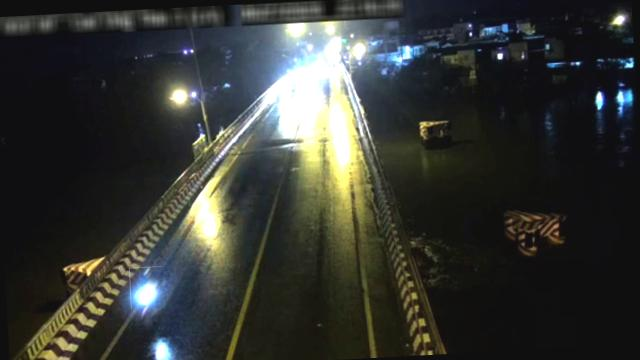Bike: (129, 266, 164, 308)
